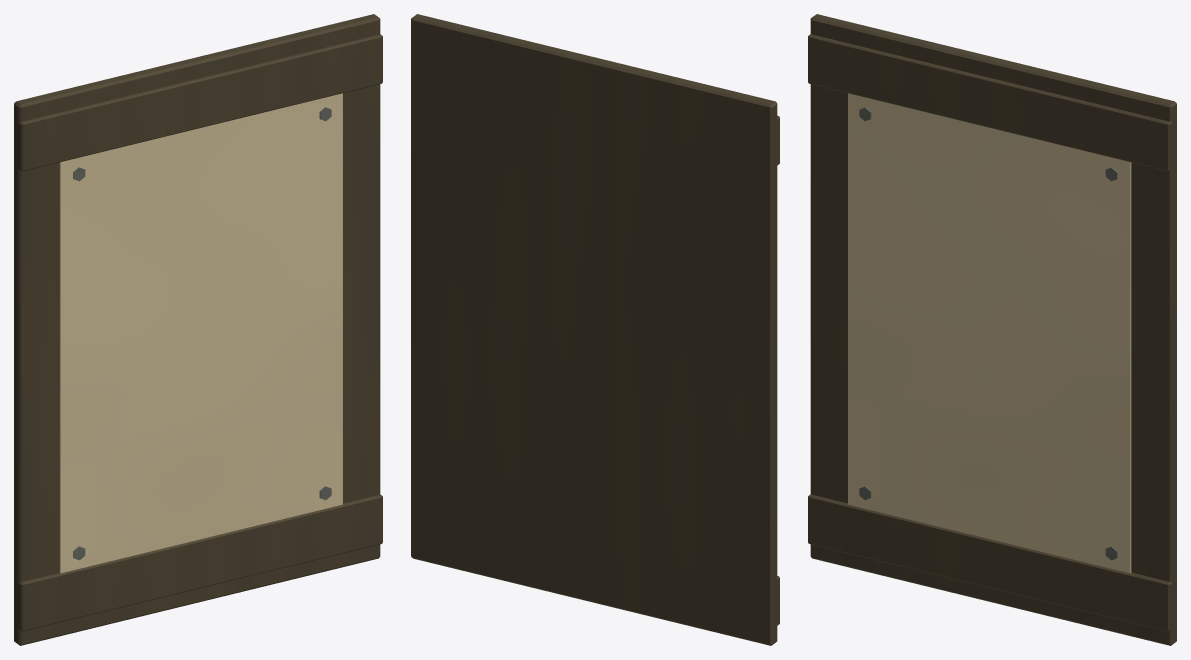
File: WarrensC_CCS78_MaintenanceNoticeBoard_Mars_SM.fbx
3 views of the same model, side by side, from view 1: azimuth 30°, elevation 25°; view 2: azimuth 150°, elevation 25°; view 3: azimuth 330°, elevation 25° (orthographic).
Parts seen in each view (by area): view 1: WarrensC_CCS78_MaintenanceNoticeBoard_Mars_SM.001; view 2: WarrensC_CCS78_MaintenanceNoticeBoard_Mars_SM.001; view 3: WarrensC_CCS78_MaintenanceNoticeBoard_Mars_SM.001.
Part boxes in pixels (x1,y1,x2,y2): WarrensC_CCS78_MaintenanceNoticeBoard_Mars_SM.001: [14, 14, 382, 645]; WarrensC_CCS78_MaintenanceNoticeBoard_Mars_SM.001: [411, 14, 779, 645]; WarrensC_CCS78_MaintenanceNoticeBoard_Mars_SM.001: [808, 14, 1176, 645].
Size of the model in its own units: 70 by 3 by 100.
